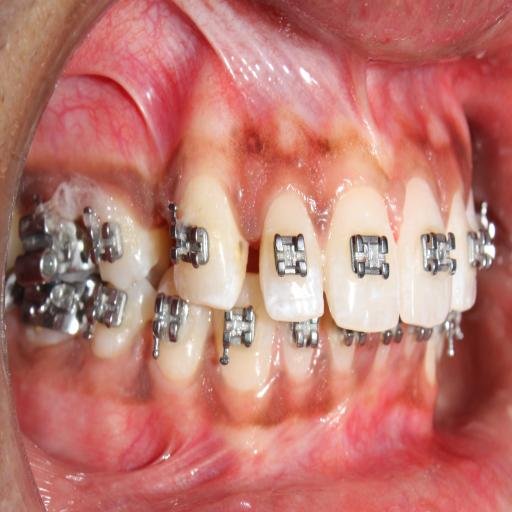correct_brace: (343, 227, 395, 287), (417, 219, 457, 286), (169, 215, 214, 272), (265, 228, 312, 282)
incorrect_brace: (257, 184, 321, 328)
